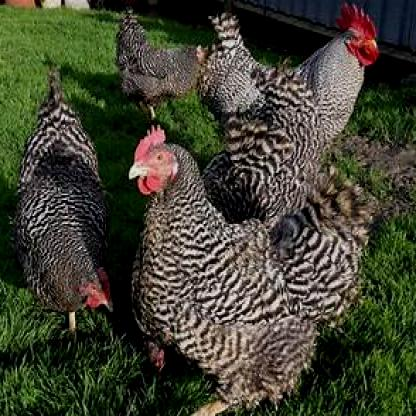chicken: (126, 124, 376, 414), (17, 66, 117, 336), (202, 5, 379, 138), (109, 8, 204, 118)
